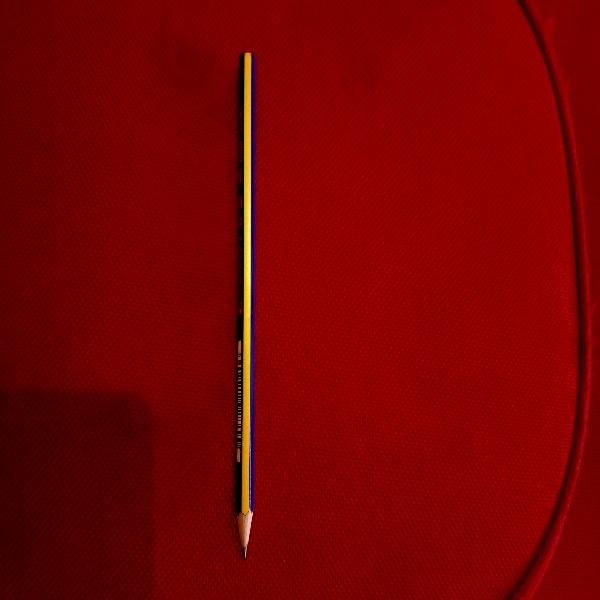pencil: (234, 49, 256, 562)
